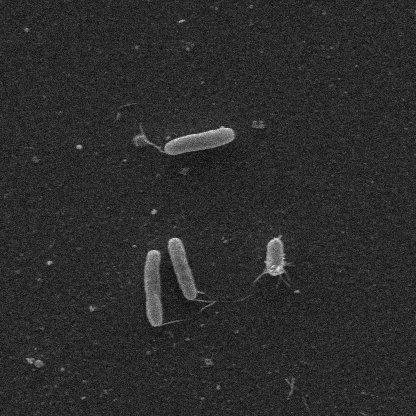cell2surface: (140, 136, 169, 156), (186, 296, 220, 313), (250, 269, 272, 289), (274, 269, 292, 290), (151, 319, 180, 330)
regular: (166, 237, 199, 302), (167, 124, 235, 155), (141, 250, 164, 326), (266, 234, 283, 277)
